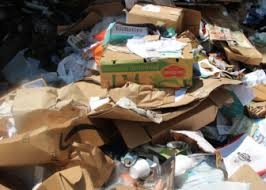metal: (122, 150, 137, 168)
paper: (1, 79, 104, 166), (83, 72, 243, 123), (91, 34, 203, 88), (24, 141, 131, 190), (204, 18, 265, 70), (119, 1, 195, 37), (214, 131, 266, 181), (168, 125, 221, 158), (100, 19, 150, 45)
plastic: (127, 157, 154, 180)
